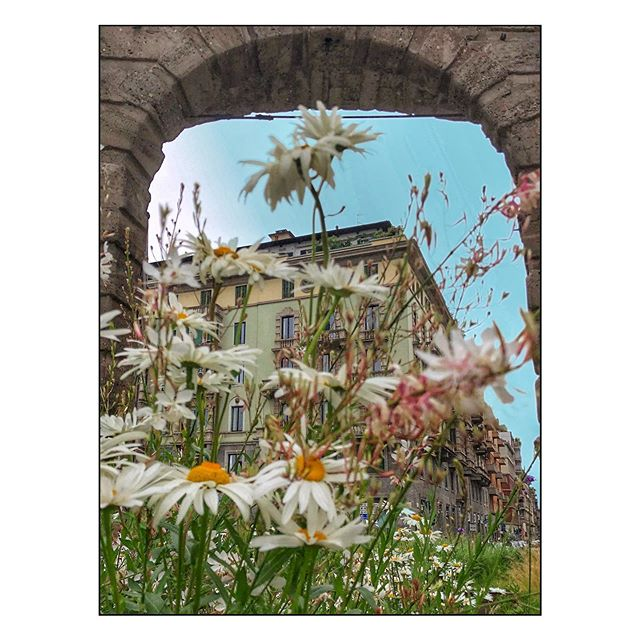building: (146, 237, 492, 532)
flowers: (94, 107, 541, 606)
